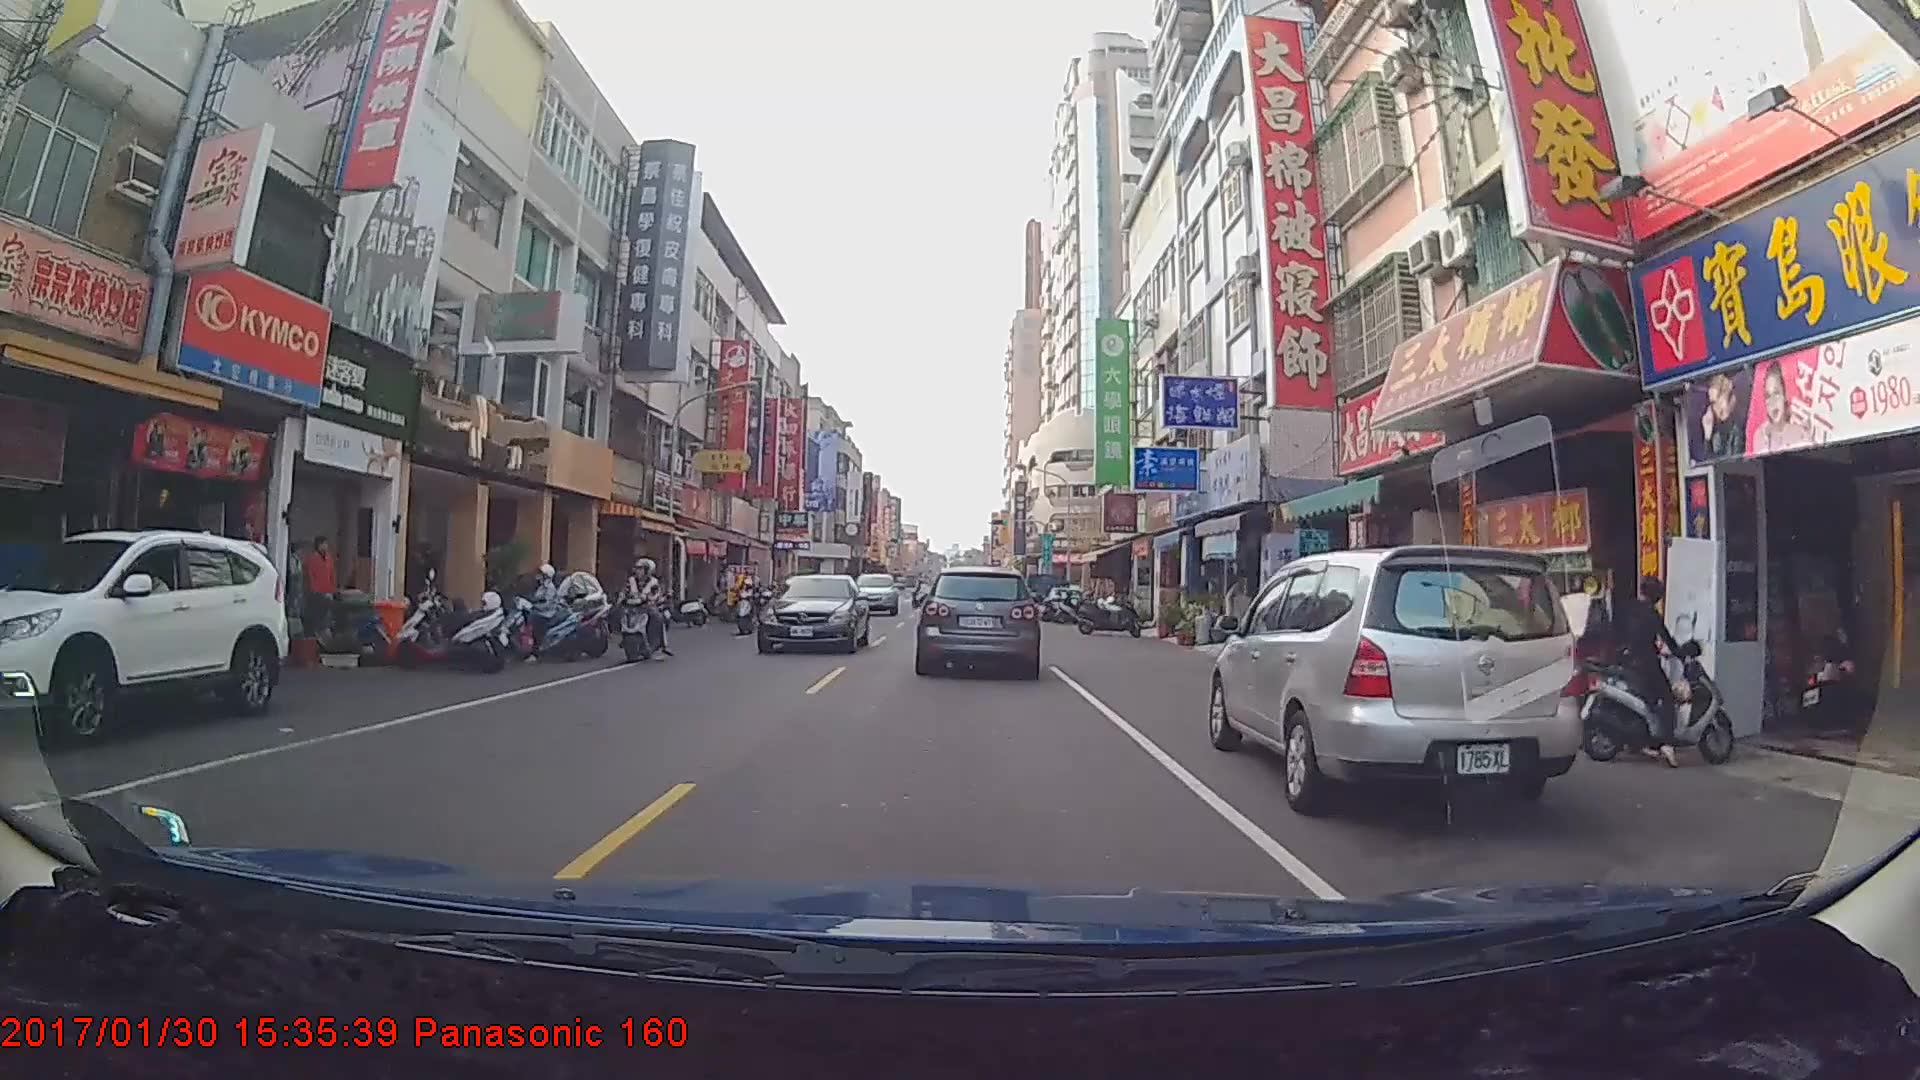pedestrian: (301, 531, 345, 638), (281, 536, 308, 622)
rider: (1573, 572, 1743, 773), (611, 553, 678, 665), (742, 576, 771, 633)
vehicle: (1209, 545, 1581, 817), (0, 529, 283, 747), (917, 564, 1039, 676), (757, 572, 870, 655), (848, 571, 899, 615)
